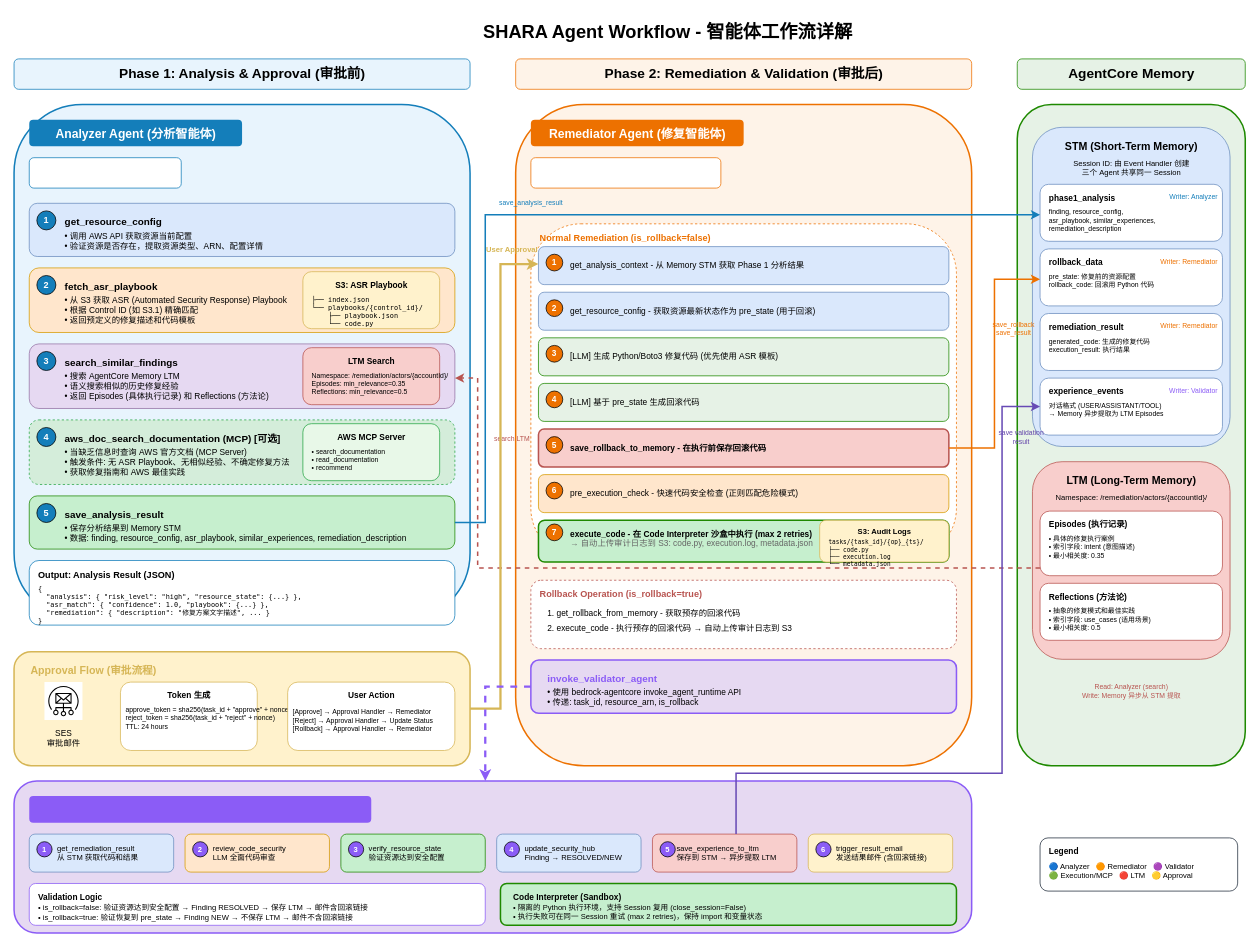
This 1259x946 diagram has some shape labels left out. Here are the shapes that lost their labels. From the top down, the centre of each, then its label:
At [104,172]: "Input: Security Hub Finding".
At [625,172]: "Input: task_id, resource_arn, is_rollback".
At [200,809]: "Validator Agent (验证智能体) - Invoke API from Remediator".
